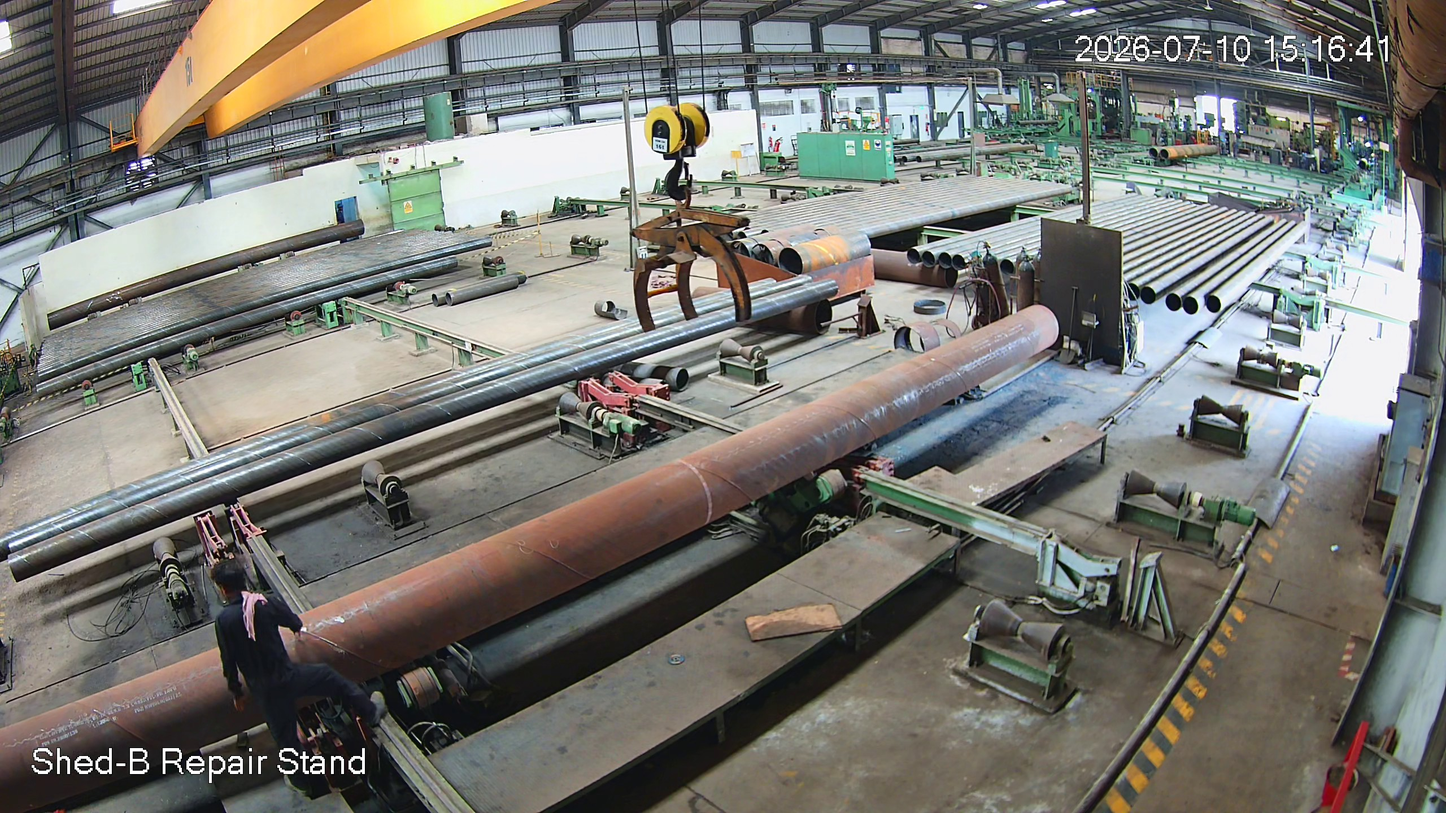Person: (205, 558, 415, 787)
